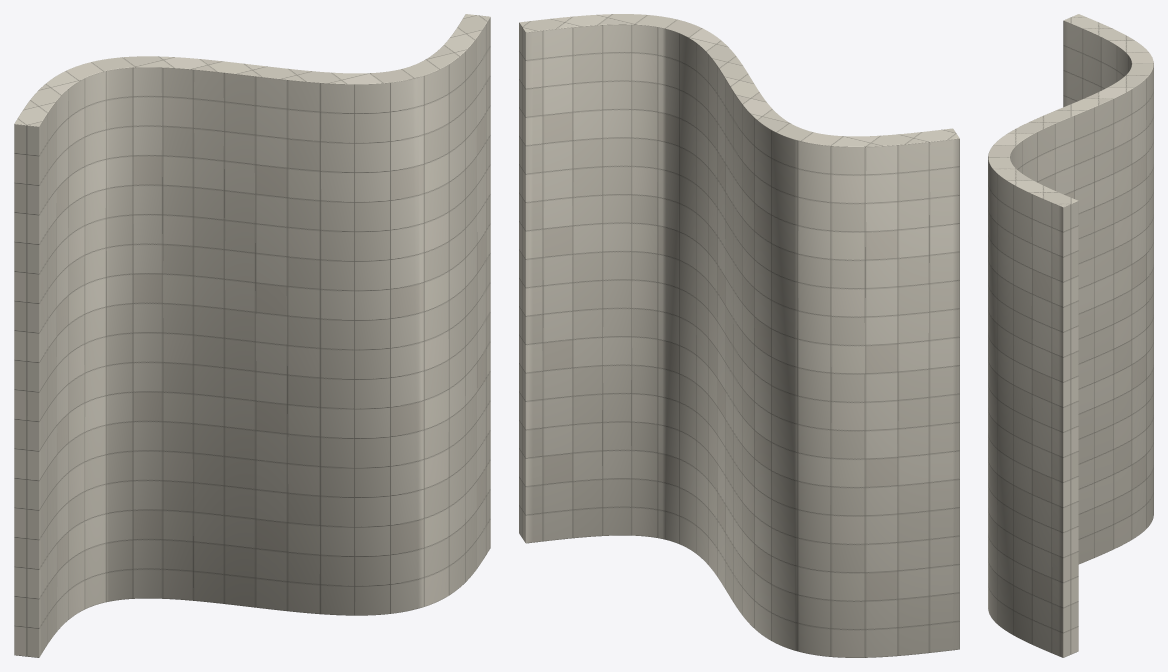
Rendered from MOD_50_Wall_SCurve_4m.glb.
3 renders of one model, left to right at view 1: azimuth 30°, elevation 25°; view 2: azimuth 150°, elevation 25°; view 3: azimuth 270°, elevation 25°, orthographic. The views are drawn at different scales.
Parts seen in each view (by area): view 1: MOD_50_Wall_SCurve_4m_Export; view 2: MOD_50_Wall_SCurve_4m_Export; view 3: MOD_50_Wall_SCurve_4m_Export.
Part boxes in pixels (left/top/right/bottom): MOD_50_Wall_SCurve_4m_Export: left=14, top=14, right=490, bottom=657; MOD_50_Wall_SCurve_4m_Export: left=519, top=14, right=959, bottom=657; MOD_50_Wall_SCurve_4m_Export: left=988, top=14, right=1153, bottom=657.
Bounding box in the file's own units: 4.14 × 4.5 × 1.5.
1 material, 1 textured.
